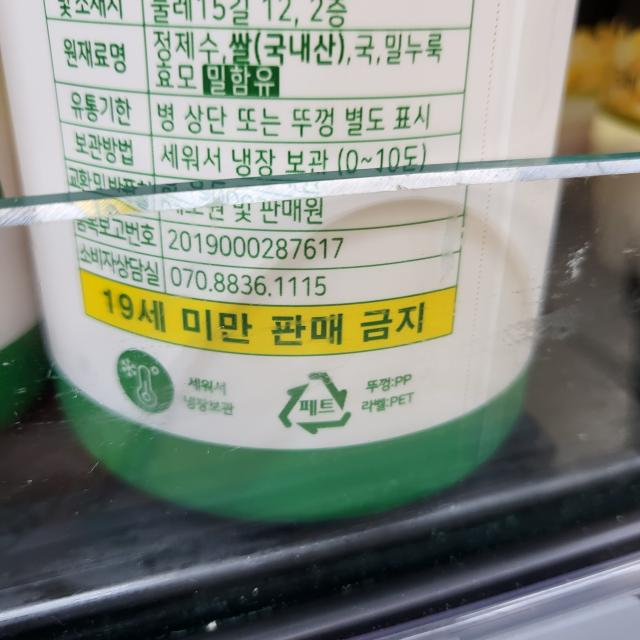PET: (276, 367, 354, 440)
